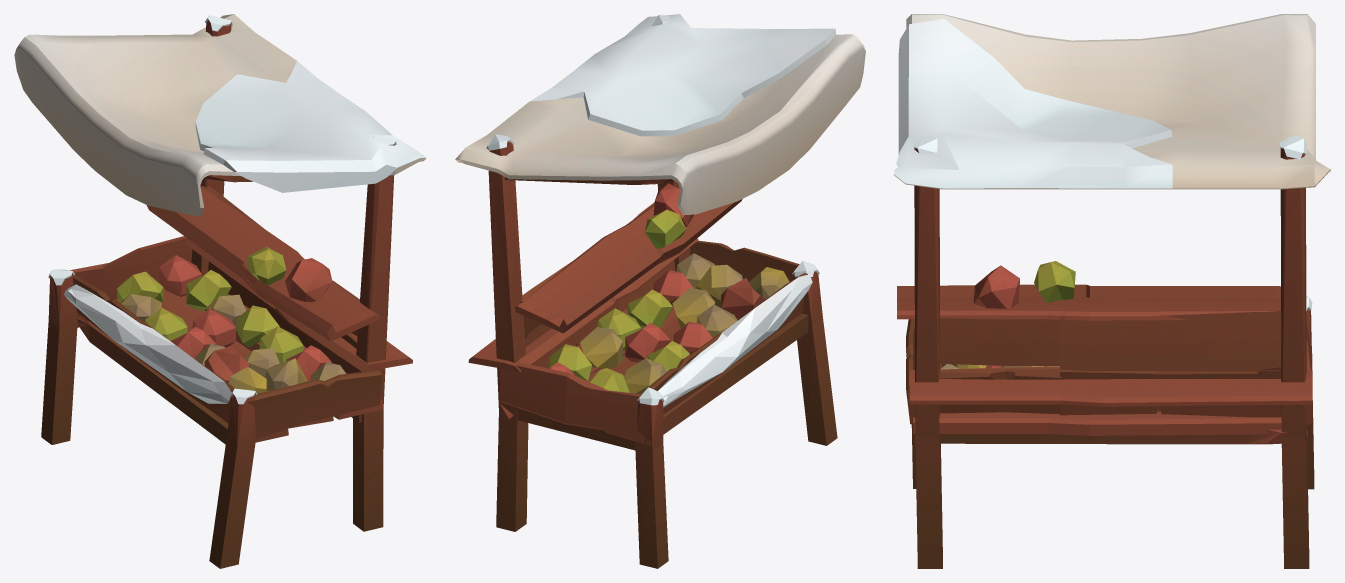
3 views of the same model, side by side, from view 1: azimuth 30°, elevation 25°; view 2: azimuth 150°, elevation 25°; view 3: azimuth 270°, elevation 25° (orthographic). The views are drawn at different scales.
Visible parts, largest first — view 1: SnowyMarketStandSmall; view 2: SnowyMarketStandSmall; view 3: SnowyMarketStandSmall.
Part boxes in pixels (x1,y1,x2,y2): SnowyMarketStandSmall: [14, 14, 426, 568]; SnowyMarketStandSmall: [455, 14, 865, 568]; SnowyMarketStandSmall: [894, 14, 1330, 568].
Bounding box in the file's own units: 1.97 × 3.37 × 2.9.
Materials: 1 (1 with a texture image).
